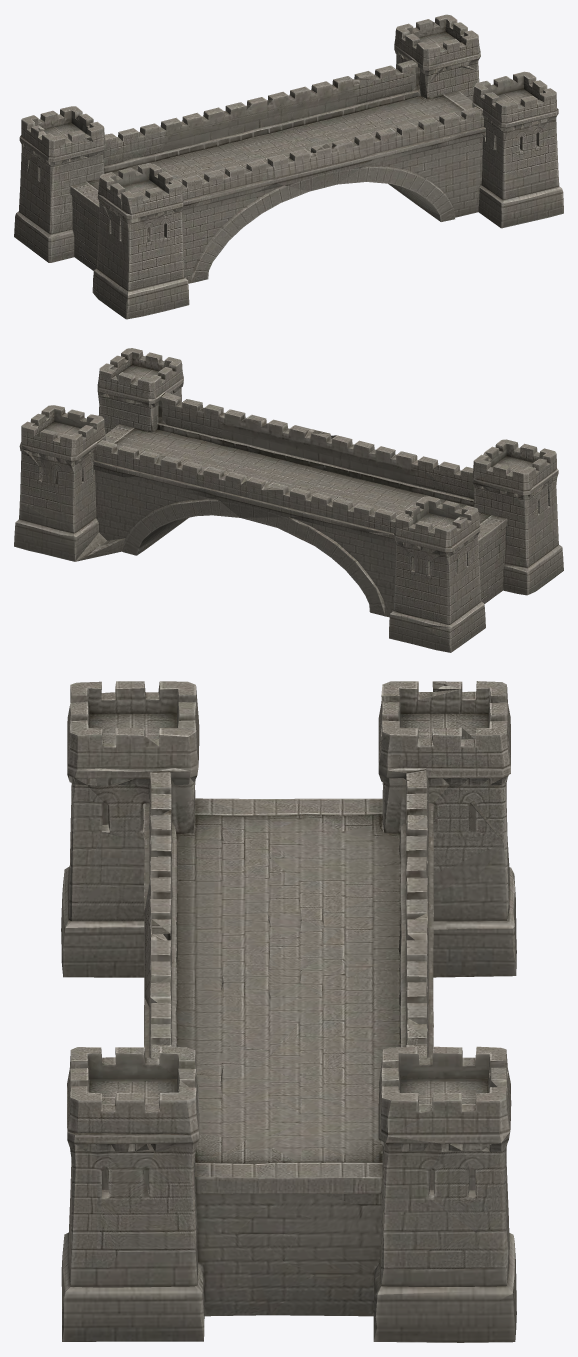
Rendered from canal_bridge.glb.
The picture shows the model from 3 angles, top to bottom: view 1: azimuth 30°, elevation 25°; view 2: azimuth 150°, elevation 25°; view 3: azimuth 270°, elevation 25°; orthographic projection. The views are drawn at different scales.
Visible parts, largest first — view 1: output_unwrapped; view 2: output_unwrapped; view 3: output_unwrapped.
Boxes of the visible parts, x1,y1,x2,y2 form: output_unwrapped: [14, 14, 563, 319]; output_unwrapped: [14, 348, 563, 652]; output_unwrapped: [61, 681, 516, 1342].
Bounding box in the file's own units: 1.9 × 0.4975 × 0.8574.
Materials: 1 (1 with a texture image).
